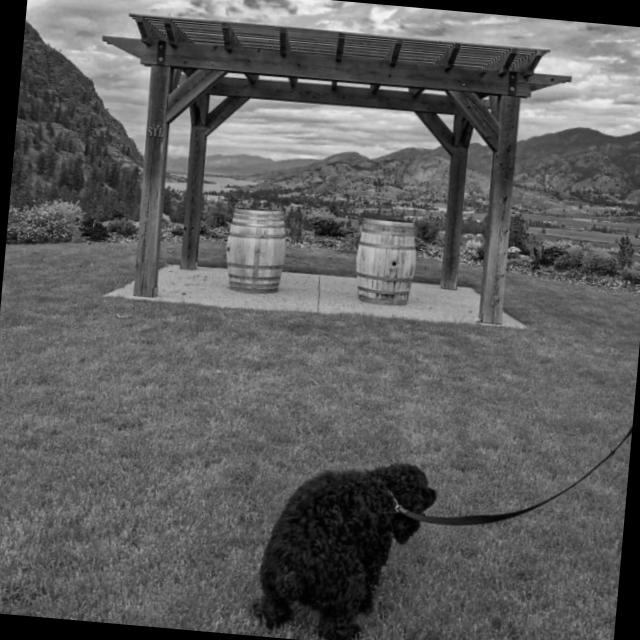squatting: (243, 443, 446, 640)
